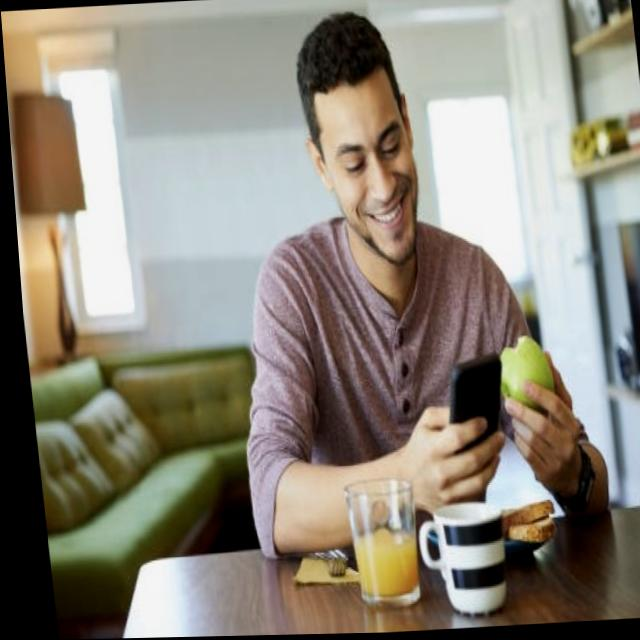eating-person: (197, 0, 614, 629)
